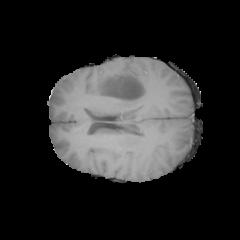glioma: (89, 70, 147, 107)
